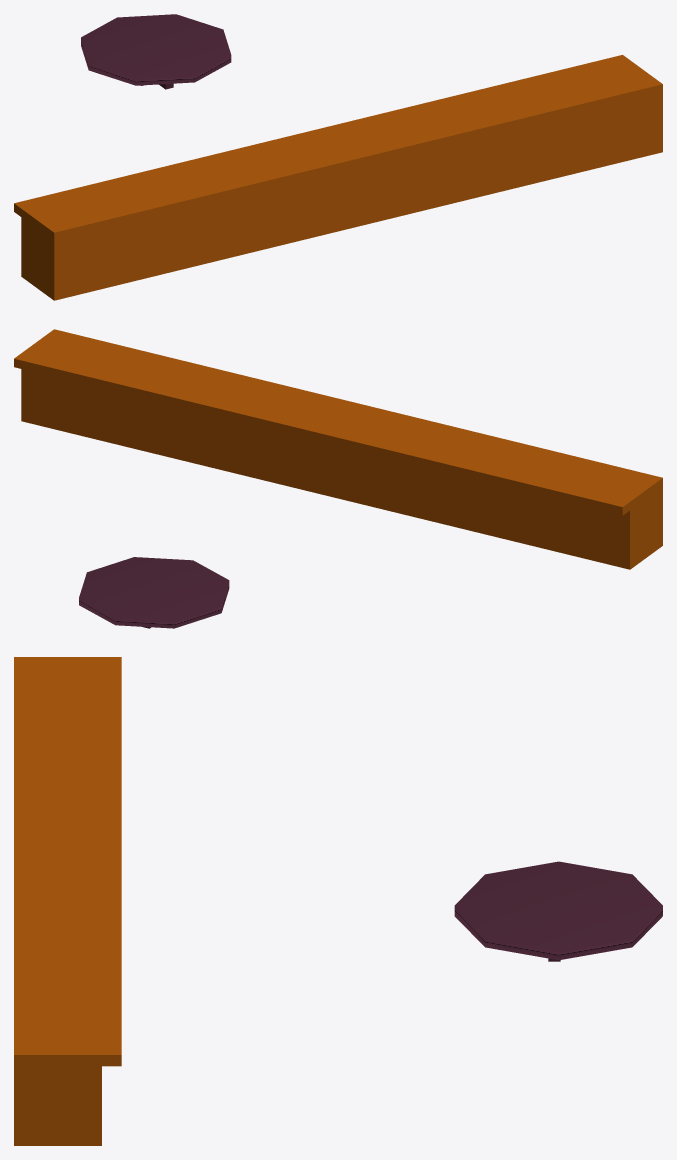
The model's file is Assets-bar.2fix.fbx.
The picture shows the model from 3 angles, top to bottom: view 1: azimuth 30°, elevation 25°; view 2: azimuth 150°, elevation 25°; view 3: azimuth 270°, elevation 25°; orthographic projection. The views are drawn at different scales.
Parts seen in each view (by area): view 1: Table.001, table small; view 2: Table.001, table small; view 3: Table.001, table small.
Boxes of the visible parts, bbox=[...] form: Table.001: bbox=[14, 55, 662, 300]; table small: bbox=[81, 14, 231, 89]; Table.001: bbox=[14, 329, 662, 569]; table small: bbox=[79, 557, 229, 628]; Table.001: bbox=[14, 657, 121, 1145]; table small: bbox=[454, 861, 662, 961].
Bounding box in the file's own units: 3197 × 348 × 2204.
